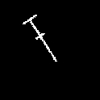double_crochet: (23, 15, 55, 60)
